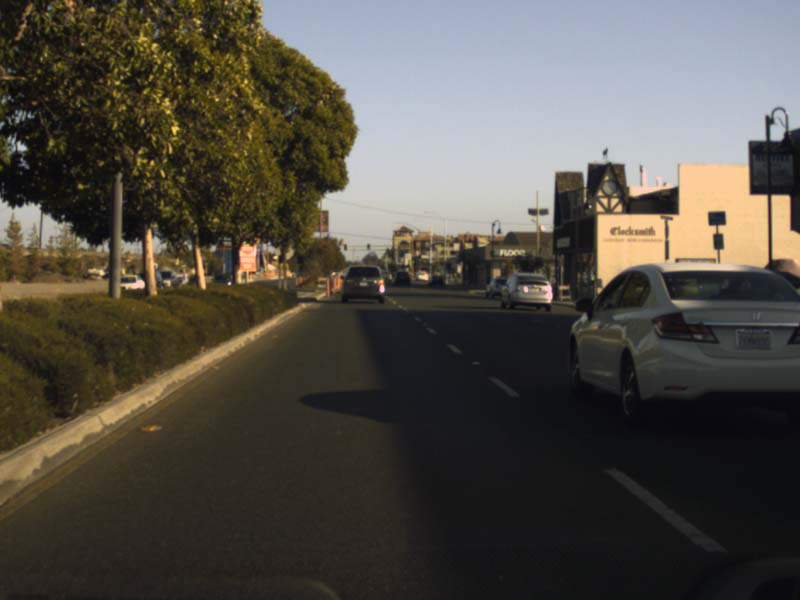Green: (366, 243, 371, 251)
